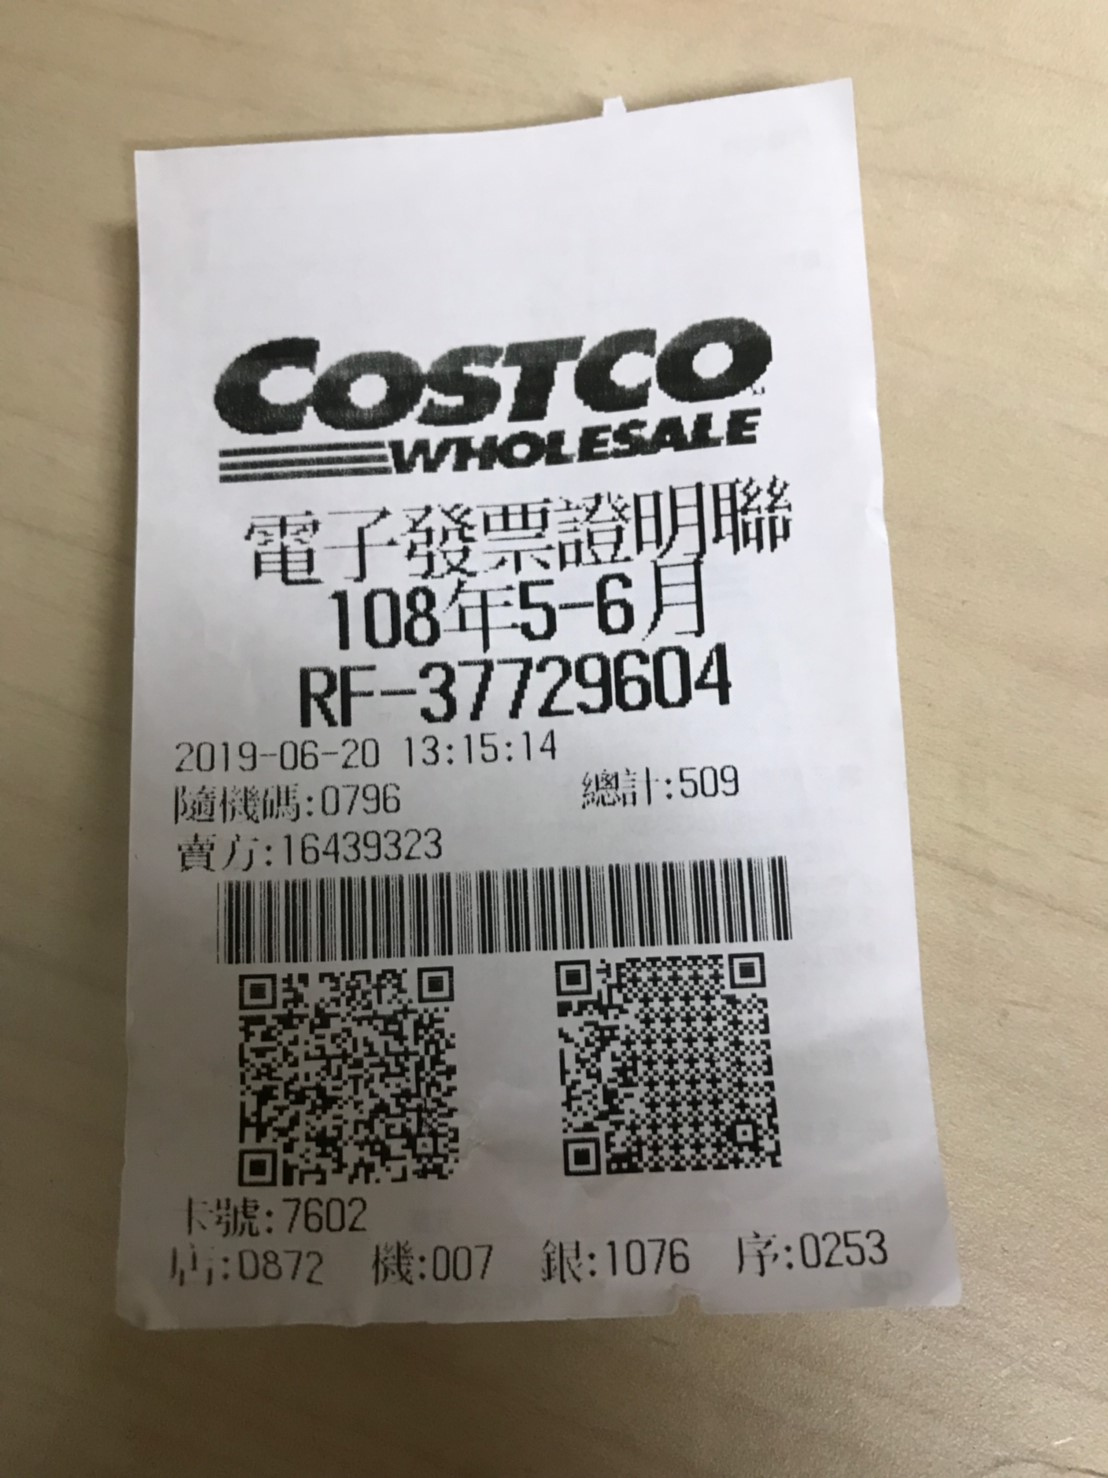Date_New: (324, 562, 706, 655)
Number_New: (411, 644, 743, 725)
